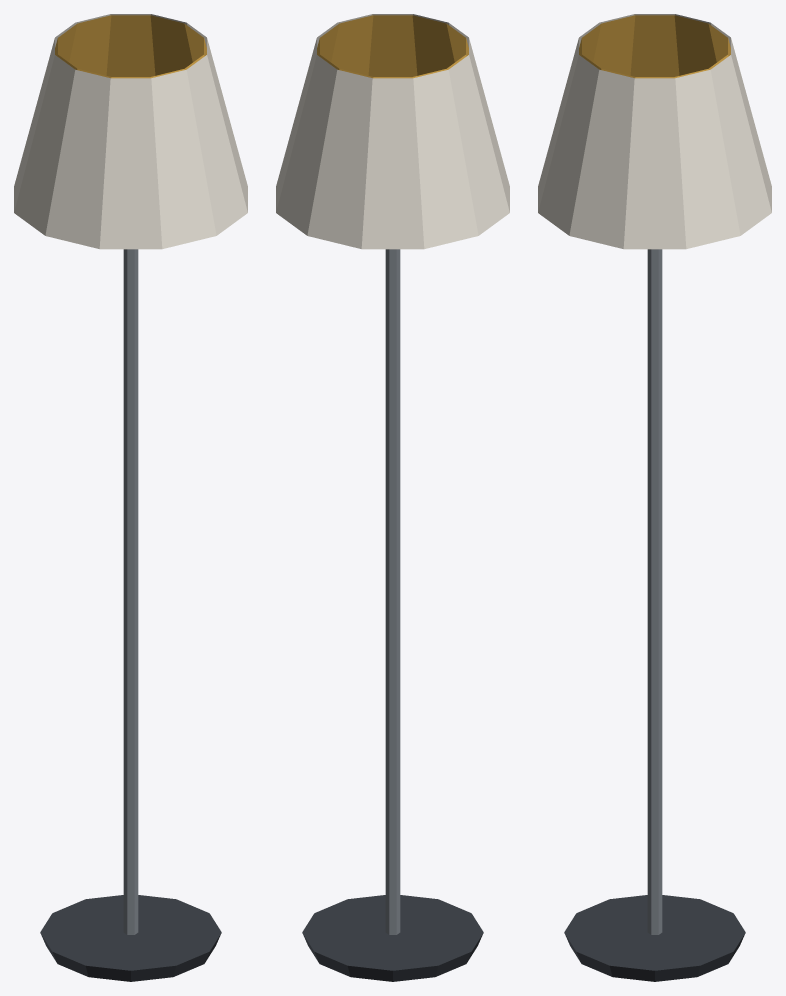
File: floor_lamp.glb
3 renders of one model, left to right at view 1: azimuth 30°, elevation 25°; view 2: azimuth 150°, elevation 25°; view 3: azimuth 270°, elevation 25°, orthographic.
Visible parts, largest first — view 1: LampBody; view 2: LampBody; view 3: LampBody.
Boxes of the visible parts, x1=… form: LampBody: x1=14, y1=14, x2=247, y2=981; LampBody: x1=276, y1=14, x2=509, y2=981; LampBody: x1=538, y1=14, x2=771, y2=981.
Bounding box in the file's own units: 0.3864 × 1.64 × 0.3864.
